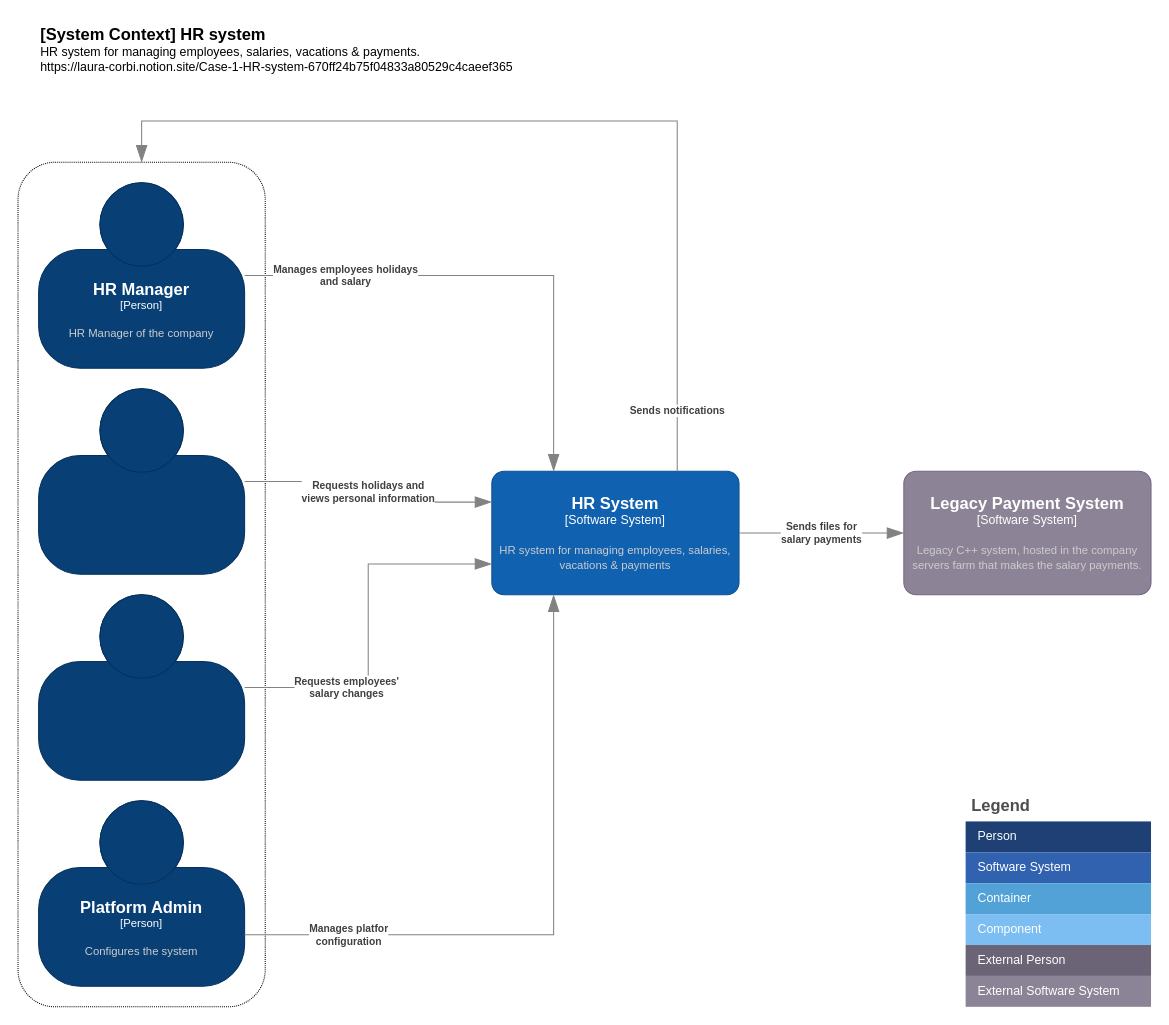
Some shapes in this 1169 by 1025 pixel diagram are drawn without their labels. The shapes that lost their labels are listed below. From the top down, each one's centre as x and y in pixels, then its label:
At pixel 141 481: "Employee [Person] Worker of the company".
At pixel 141 687: "Manager [Person] Employees' manager".
